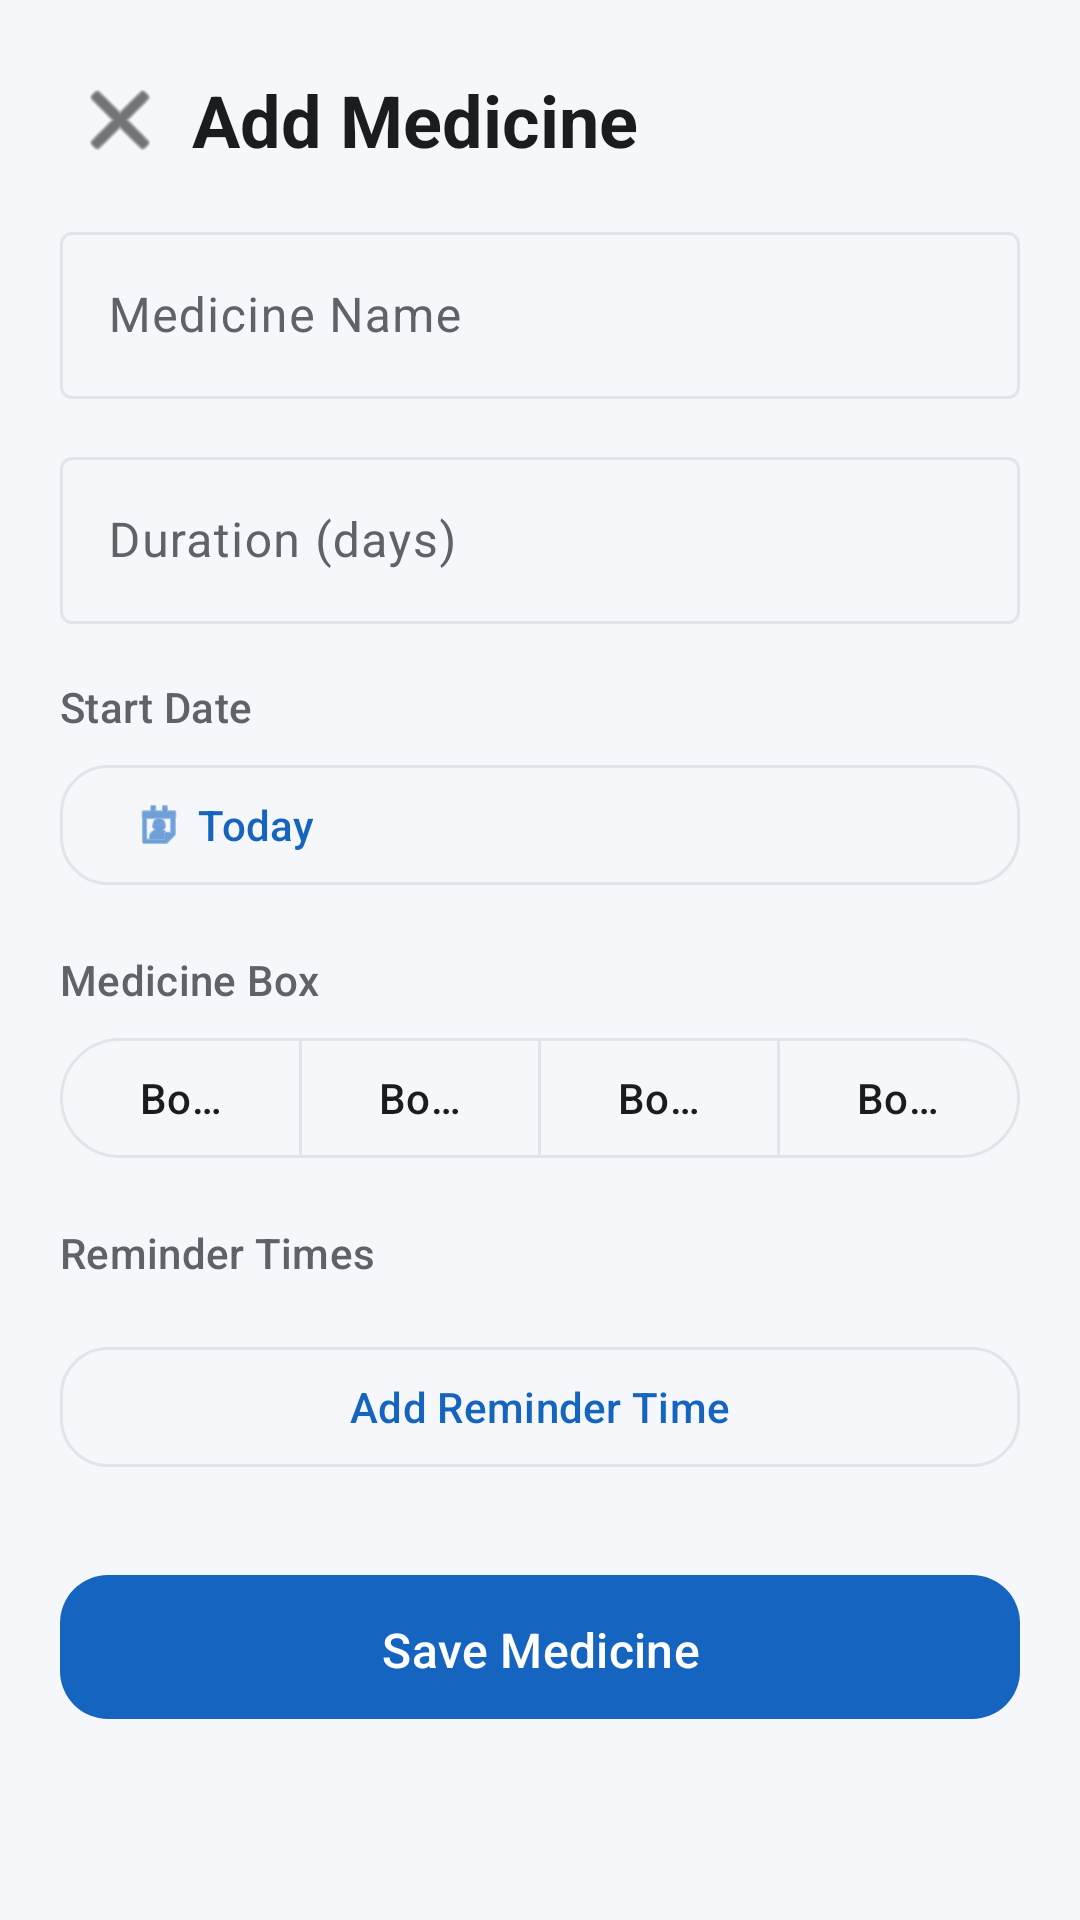

Locate icon controls on the screen. Image size 1080×1920, boxes as (left=x1, top=y1, right=x2, bottom=y2).
Close: (left=90, top=90, right=150, bottom=150)
